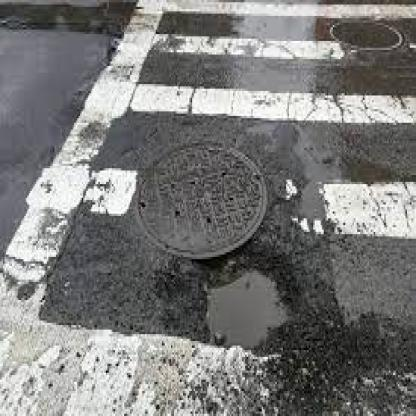open manhole-not overflowing-: (135, 139, 299, 352)
